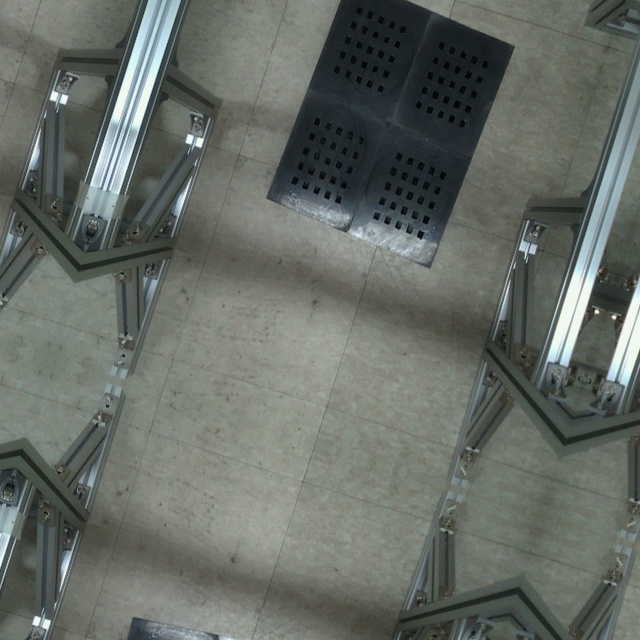pallet: (255, 0, 526, 272)
